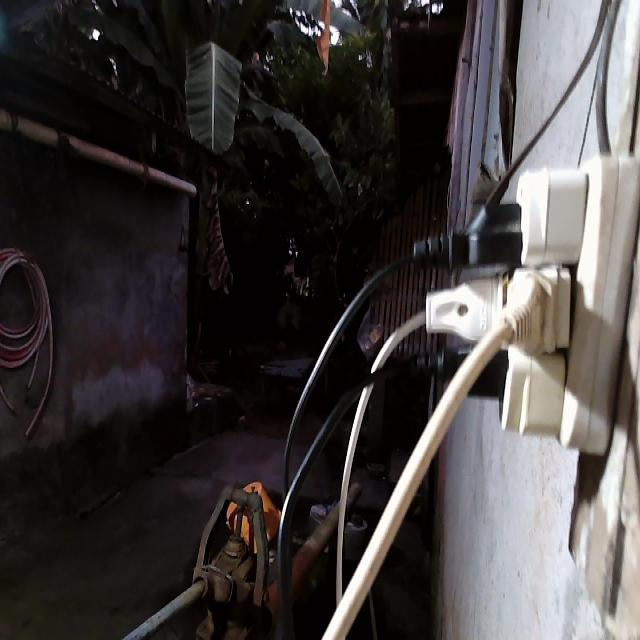-: (422, 148, 639, 455)
